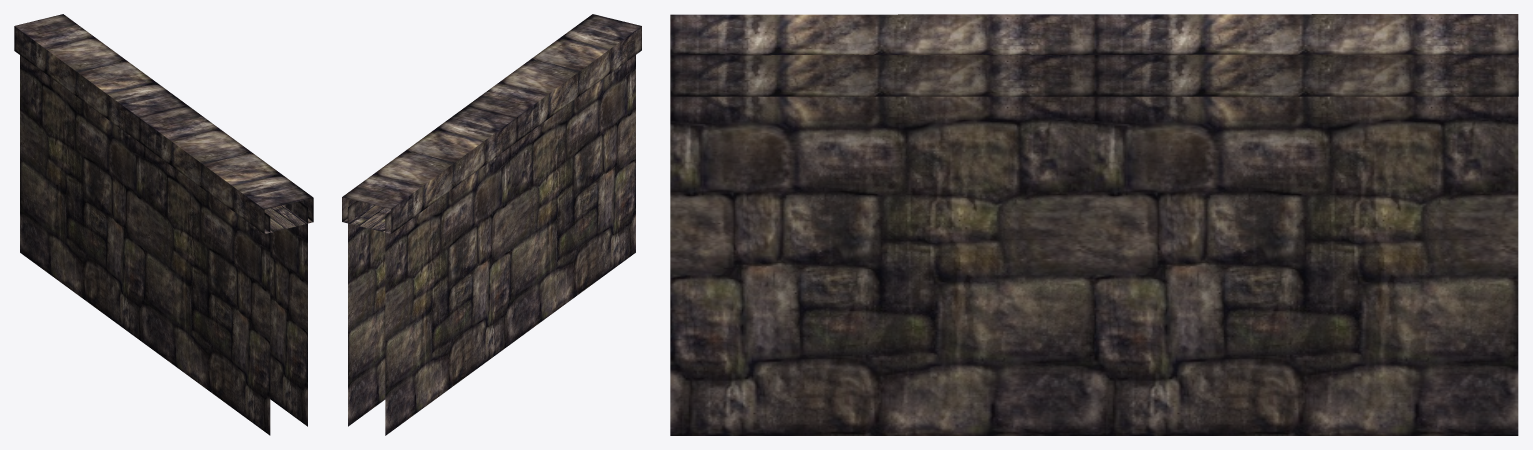
Rendered from pir_m_bld_wal_mossyStone_double.fbx.
The picture shows the model from 3 angles, left to right: view 1: azimuth 30°, elevation 25°; view 2: azimuth 150°, elevation 25°; view 3: azimuth 270°, elevation 25°; orthographic projection. The views are drawn at different scales.
Visible parts, largest first — view 1: main; view 2: main; view 3: main.
Boxes of the visible parts, bbox=[...] form: main: bbox=[14, 14, 313, 435]; main: bbox=[342, 14, 641, 435]; main: bbox=[670, 14, 1518, 435].
Bounding box in the file's own units: 362 × 1608 × 3200.
Materials: 1 (1 with a texture image).
